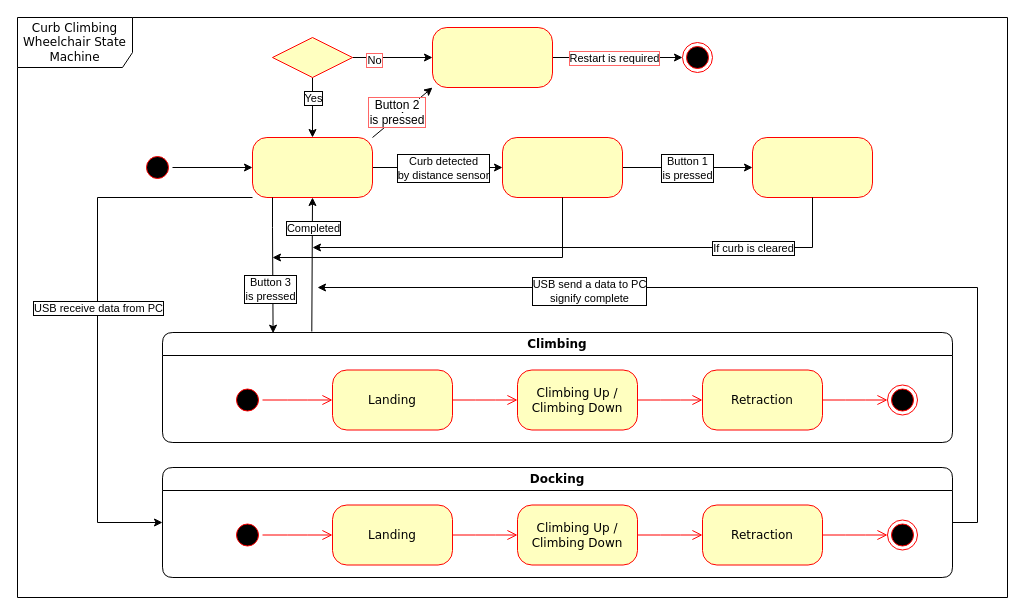
Image size: 1025x615. Some labels were removed from this diagram. The shapes that lost their labels are listed below. From the top down, each one's centre as x and y in pixels, then its label:
[312,57]: Sensor in good condition
[492,57]: Danger
[312,167]: Normal Driving
[562,167]: Stop/Idle
[812,167]: Curb Detected
